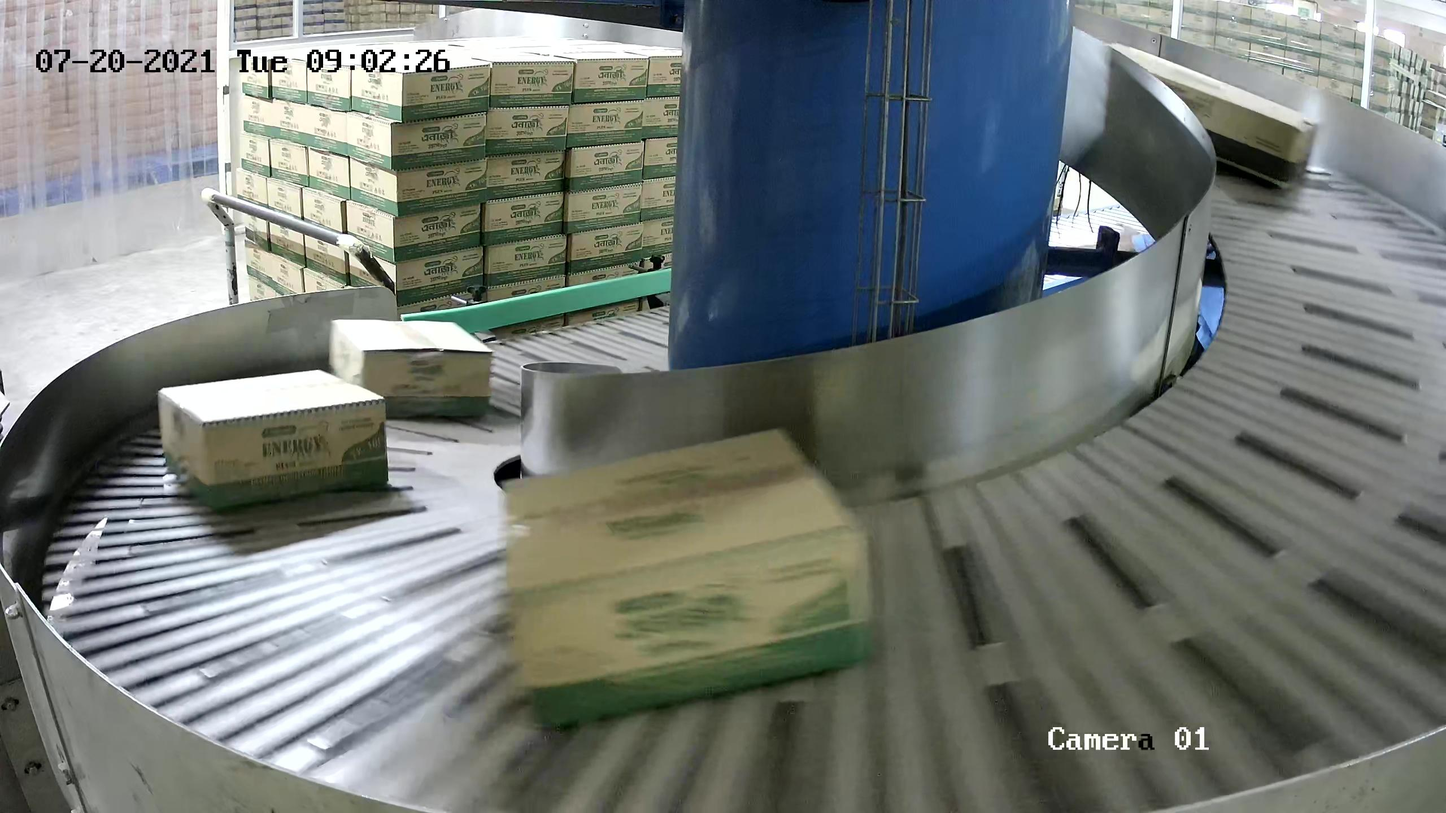Box: (503, 428, 874, 729), (1094, 41, 1319, 192), (157, 369, 390, 508), (330, 319, 495, 420)
